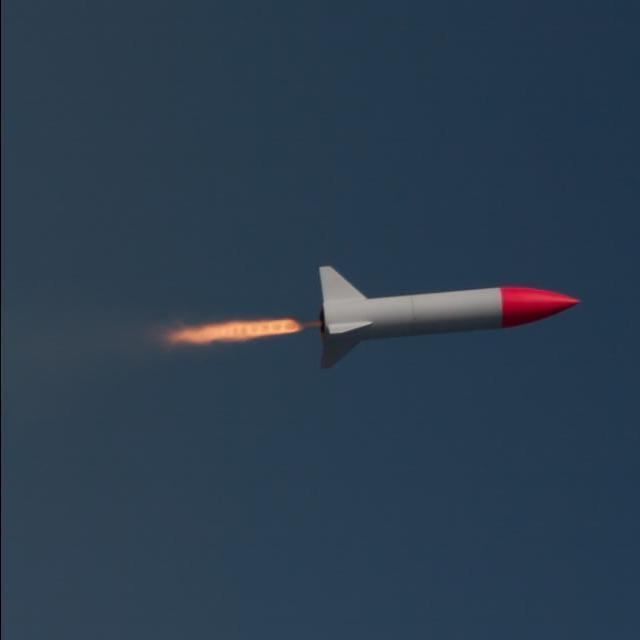Missile: (315, 263, 578, 367)
